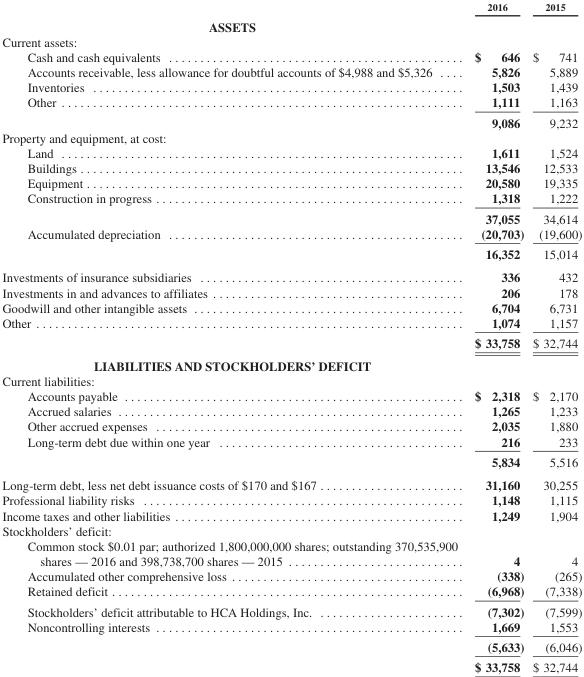table: (1, 0, 581, 673)
table column: (1, 0, 465, 673), (465, 0, 527, 673), (527, 0, 581, 673)
table column header: (1, 0, 581, 15)
table projected row header: (1, 353, 581, 373), (1, 15, 581, 33), (1, 522, 581, 538), (1, 33, 581, 48), (1, 129, 581, 144), (1, 373, 581, 388)
table row: (1, 538, 581, 568), (1, 243, 581, 265), (1, 451, 581, 473), (1, 332, 581, 353), (1, 353, 581, 373), (1, 636, 581, 656), (1, 265, 581, 284), (1, 473, 581, 492), (1, 15, 581, 33), (1, 111, 581, 129), (1, 207, 581, 225), (1, 225, 581, 243), (1, 314, 581, 332), (1, 433, 581, 451), (1, 600, 581, 618), (1, 618, 581, 636), (1, 94, 581, 111), (1, 190, 581, 207), (1, 583, 581, 600), (1, 656, 581, 673), (1, 63, 581, 79), (1, 159, 581, 175), (1, 522, 581, 538), (1, 0, 581, 15), (1, 33, 581, 48), (1, 48, 581, 63), (1, 79, 581, 94), (1, 129, 581, 144), (1, 144, 581, 159), (1, 175, 581, 190), (1, 284, 581, 299), (1, 299, 581, 314), (1, 373, 581, 388), (1, 388, 581, 403), (1, 403, 581, 418), (1, 418, 581, 433), (1, 492, 581, 507), (1, 507, 581, 522), (1, 568, 581, 583)
